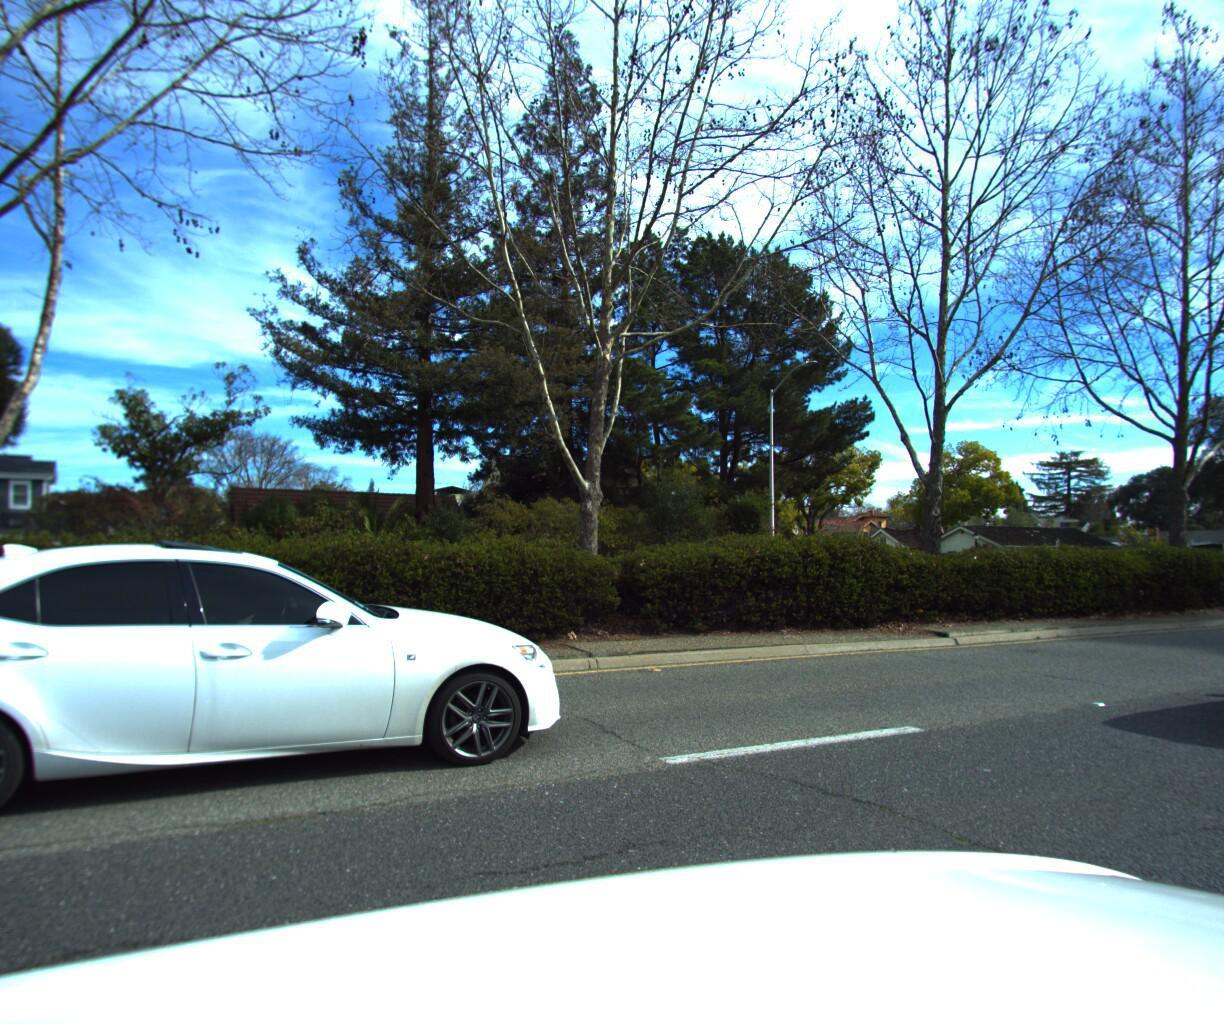car: (0, 522, 586, 874), (1200, 531, 1224, 765)
